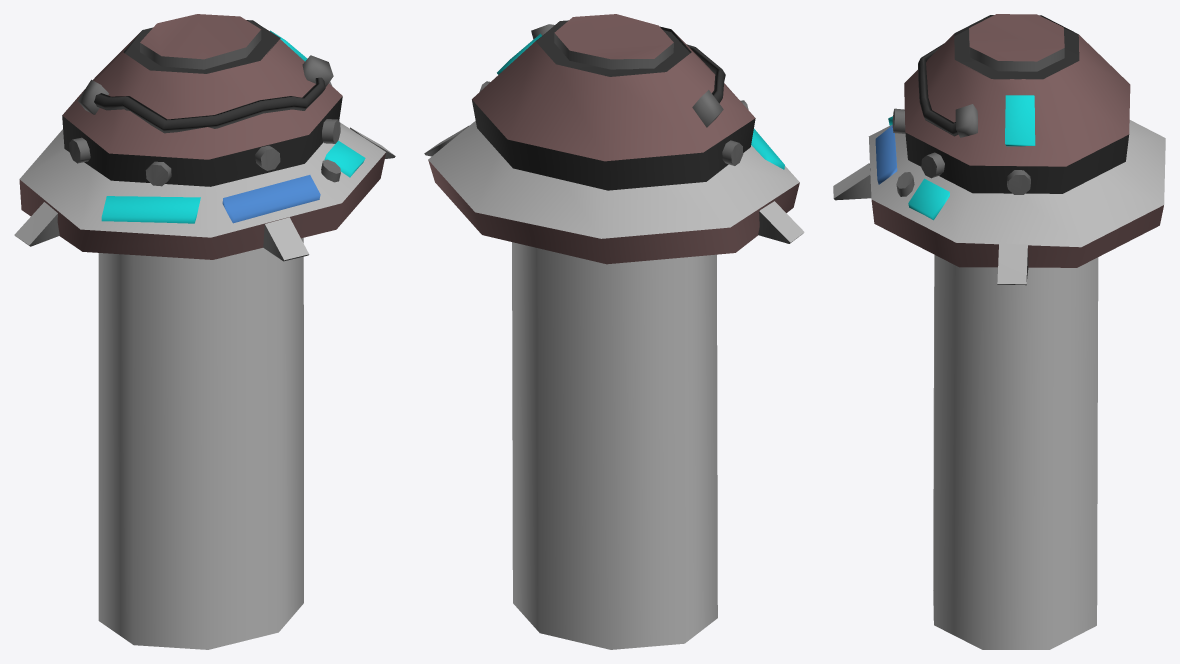
The model's file is crio chamber closed.fbx.
The picture shows the model from 3 angles, left to right: view 1: azimuth 30°, elevation 25°; view 2: azimuth 150°, elevation 25°; view 3: azimuth 270°, elevation 25°; orthographic projection.
Parts seen in each view (by area): view 1: PM3D_Circle3D3_197; view 2: PM3D_Circle3D3_197; view 3: PM3D_Circle3D3_197.
Part boxes in pixels (box(x1,y1,x2,y2)): PM3D_Circle3D3_197: box(14, 14, 395, 649); PM3D_Circle3D3_197: box(424, 14, 804, 649); PM3D_Circle3D3_197: box(833, 14, 1165, 649).
Bounding box in the file's own units: 184 × 277 × 146.
